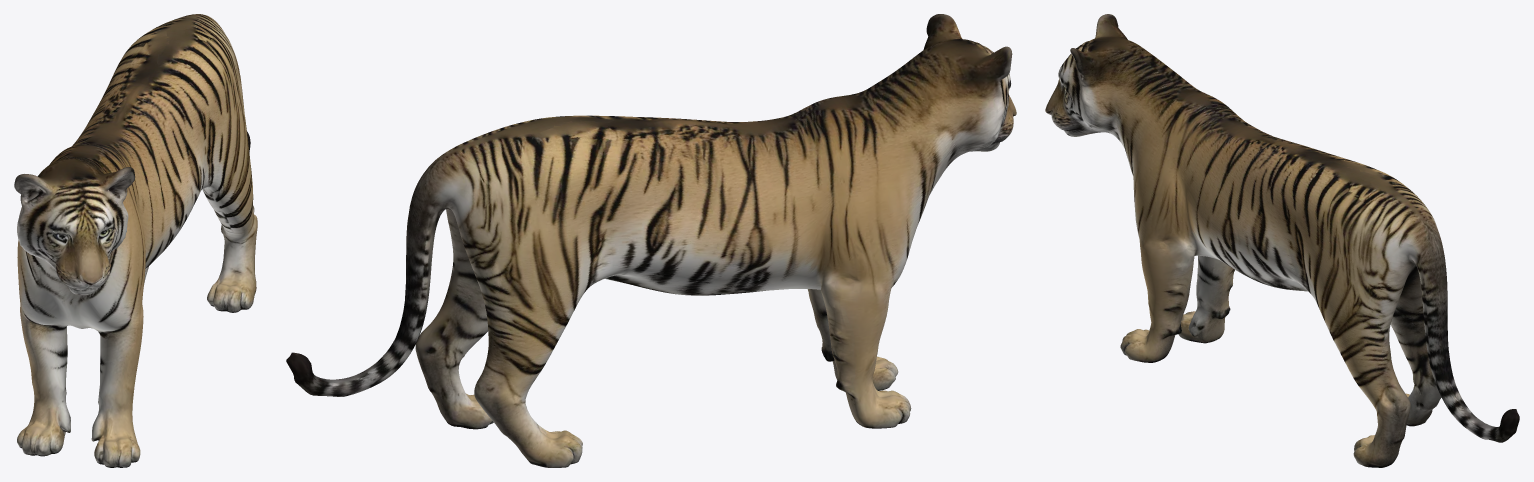
The model's file is tiger--south-china.glb.
3 views of the same model, side by side, from view 1: azimuth 30°, elevation 25°; view 2: azimuth 150°, elevation 25°; view 3: azimuth 270°, elevation 25° (orthographic). The views are drawn at different scales.
Visible parts, largest first — view 1: node_0; view 2: node_0; view 3: node_0.
Boxes of the visible parts, box(x1,y1,x2,y2) form: node_0: box(14, 14, 257, 467); node_0: box(286, 14, 1016, 467); node_0: box(1045, 14, 1519, 467).
Size of the model in its own units: 0.8285 by 0.5683 by 0.8376.
Materials: 1 (1 with a texture image).
